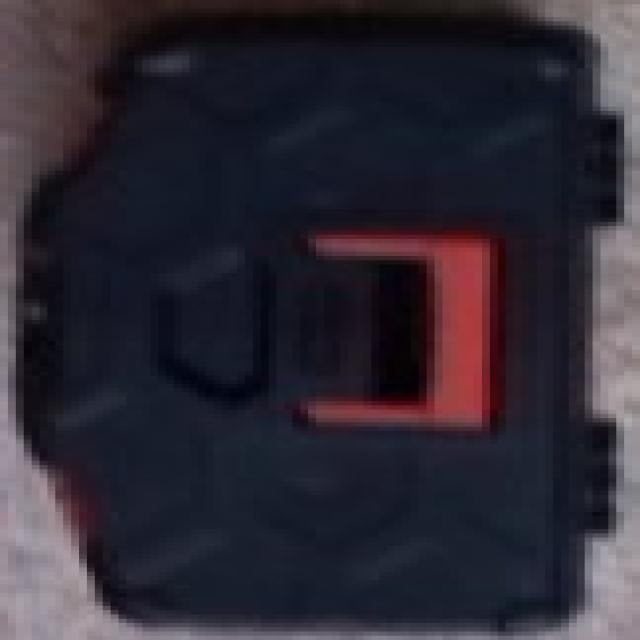boxes: (14, 19, 622, 630)
